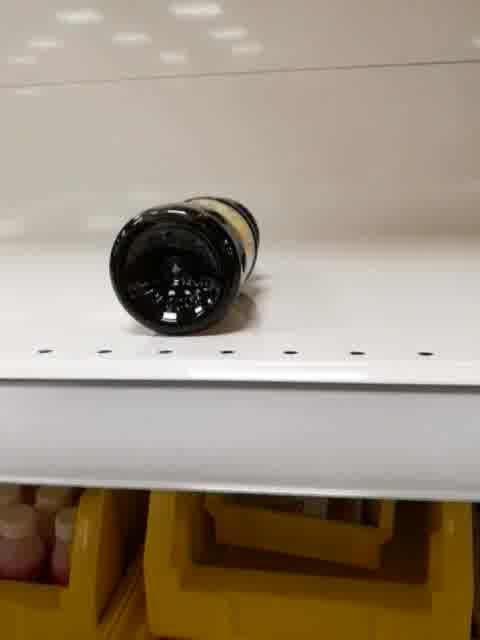cookingoil: (104, 188, 264, 339)
